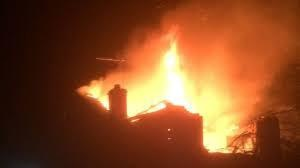fire: (81, 36, 259, 148), (76, 79, 110, 110)
